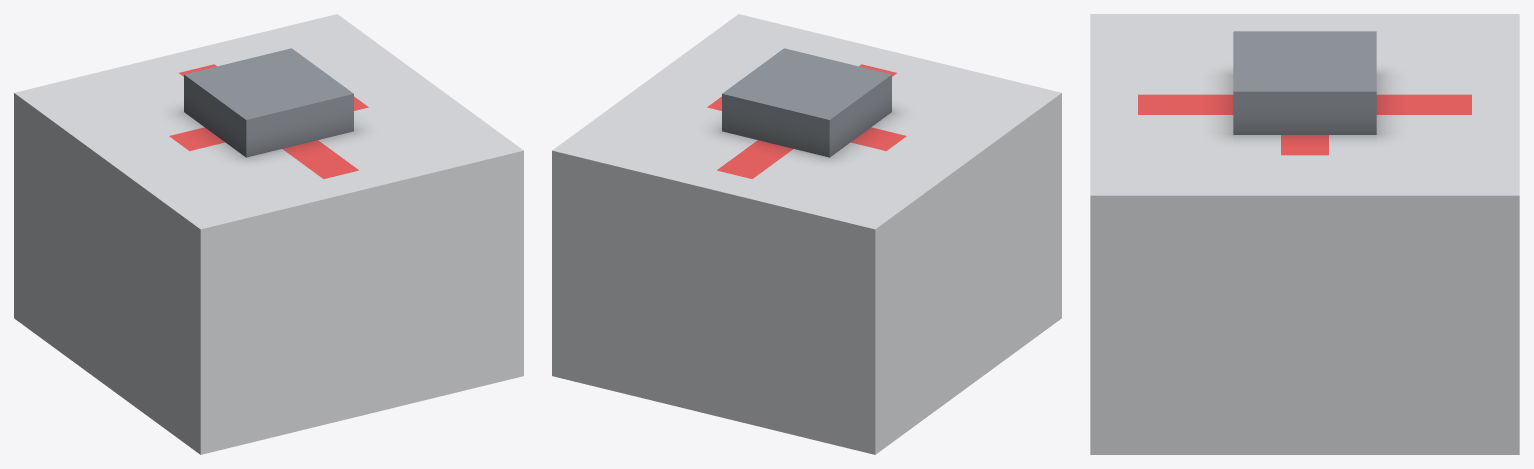
Rendered from medkit.glb.
The picture shows the model from 3 angles, left to right: view 1: azimuth 30°, elevation 25°; view 2: azimuth 150°, elevation 25°; view 3: azimuth 270°, elevation 25°; orthographic projection. The views are drawn at different scales.
Visible parts, largest first — view 1: medkit_body; view 2: medkit_body; view 3: medkit_body.
Boxes of the visible parts, bbox=[...] form: medkit_body: bbox=[14, 14, 523, 454]; medkit_body: bbox=[552, 14, 1061, 454]; medkit_body: bbox=[1090, 14, 1519, 454].
Bounding box in the file's own units: 0.3516 × 0.2734 × 0.3516.
Materials: 1 (1 with a texture image).
